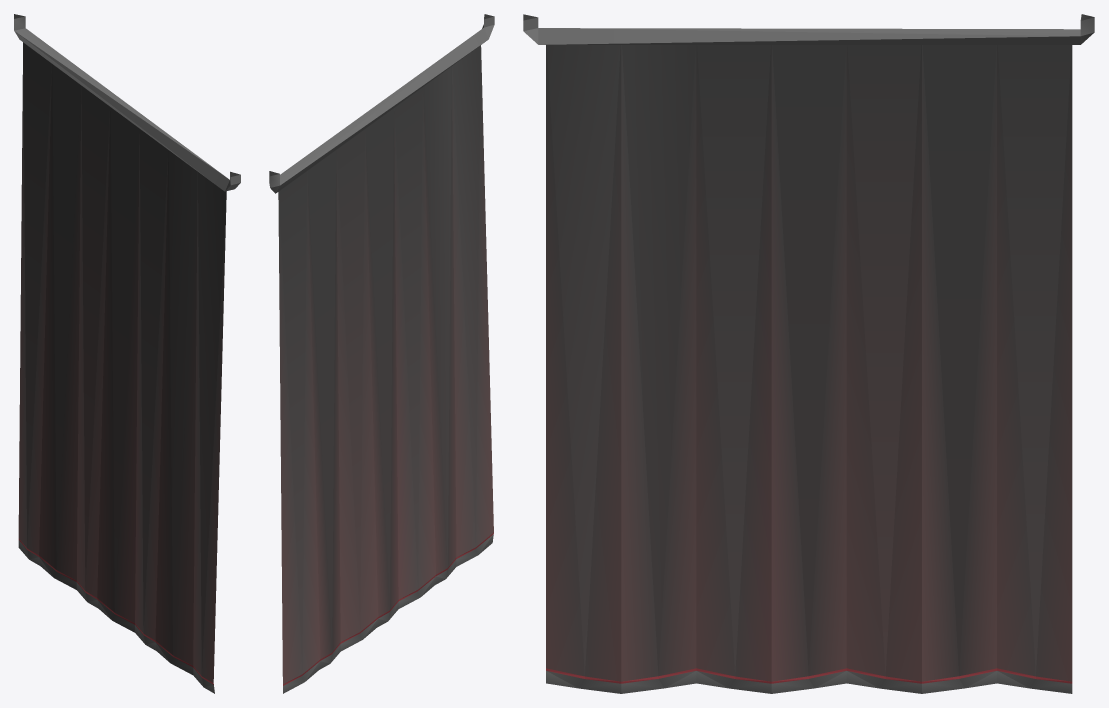
Rendered from telon.gltf.
The picture shows the model from 3 angles, left to right: view 1: azimuth 30°, elevation 25°; view 2: azimuth 150°, elevation 25°; view 3: azimuth 270°, elevation 25°; orthographic projection. The views are drawn at different scales.
Visible parts, largest first — view 1: BackStage Curtains; view 2: BackStage Curtains; view 3: BackStage Curtains.
Boxes of the visible parts, bbox=[...] form: BackStage Curtains: bbox=[14, 14, 240, 693]; BackStage Curtains: bbox=[269, 14, 494, 693]; BackStage Curtains: bbox=[523, 14, 1094, 693].
Bounding box in the file's own units: 0.1153 × 3.04 × 2.32.
